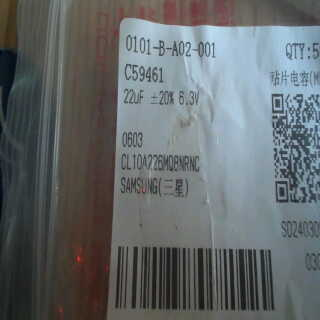22uF: (120, 85, 150, 109)
